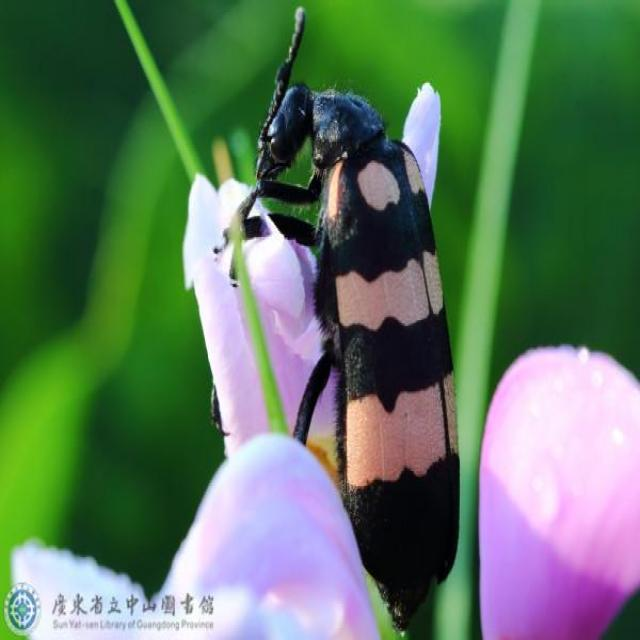BlisterBeetle-Adult-: (210, 6, 465, 628)
